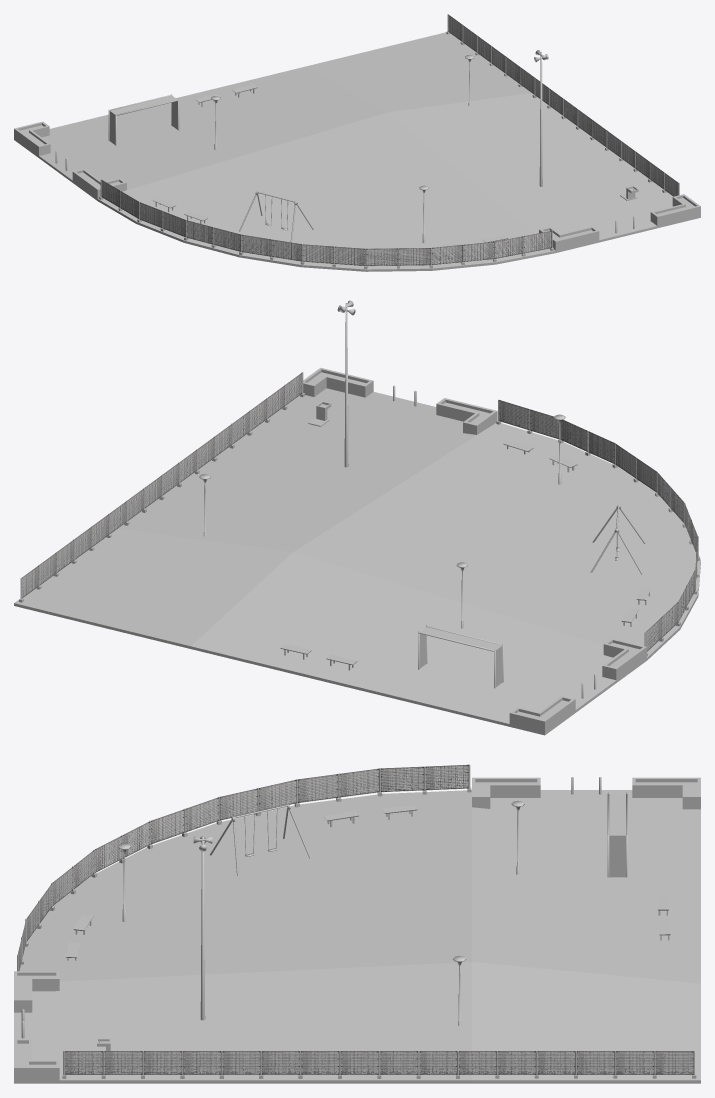
Rendered from Park.fbx.
The picture shows the model from 3 angles, top to bottom: view 1: azimuth 30°, elevation 25°; view 2: azimuth 150°, elevation 25°; view 3: azimuth 270°, elevation 25°; orthographic projection. The views are drawn at different scales.
Parts seen in each view (by area): view 1: 000_ground, 100_fence, 300_untei, 200_flower_bed.001, 200_flower_bed, 200_flower_bed.003, 200_flower_bed.002, 630_speaker, 700_swing; view 2: 000_ground, 100_fence, 300_untei, 200_flower_bed, 200_flower_bed.001, 200_flower_bed.003, 200_flower_bed.002, 630_speaker; view 3: 000_ground, 100_fence, 300_untei, 200_flower_bed, 200_flower_bed.002, 200_flower_bed.001, 200_flower_bed.003, 630_speaker, 700_swing.
Boxes of the visible parts, x1,y1,x2,y2 form: 000_ground: (14,32,700,271); 100_fence: (99,14,679,269); 300_untei: (108,94,179,145); 200_flower_bed.001: (650,194,700,225); 200_flower_bed: (14,121,50,155); 200_flower_bed.003: (539,226,599,250); 200_flower_bed.002: (72,169,126,198); 630_speaker: (534,50,548,186); 700_swing: (239,191,313,242); 000_ground: (14,388,700,735); 100_fence: (19,372,699,656); 300_untei: (418,625,503,688); 200_flower_bed: (509,695,575,732); 200_flower_bed.001: (303,367,373,397); 200_flower_bed.003: (436,398,497,434); 200_flower_bed.002: (602,638,646,680); 630_speaker: (337,300,355,467); 000_ground: (14,790,700,1083); 100_fence: (17,764,696,1078); 300_untei: (607,792,627,877); 200_flower_bed: (632,777,700,809); 200_flower_bed.002: (472,777,540,808); 200_flower_bed.001: (14,1039,59,1080); 200_flower_bed.003: (14,971,59,1012); 630_speaker: (193,836,212,1020); 700_swing: (210,804,311,876).
Size of the model in its own units: 30 by 9.3 by 30.
